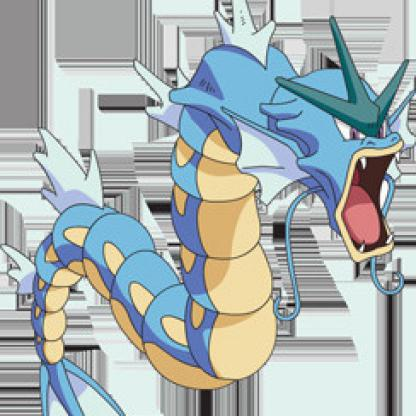Gyarados: (3, 39, 415, 416)
